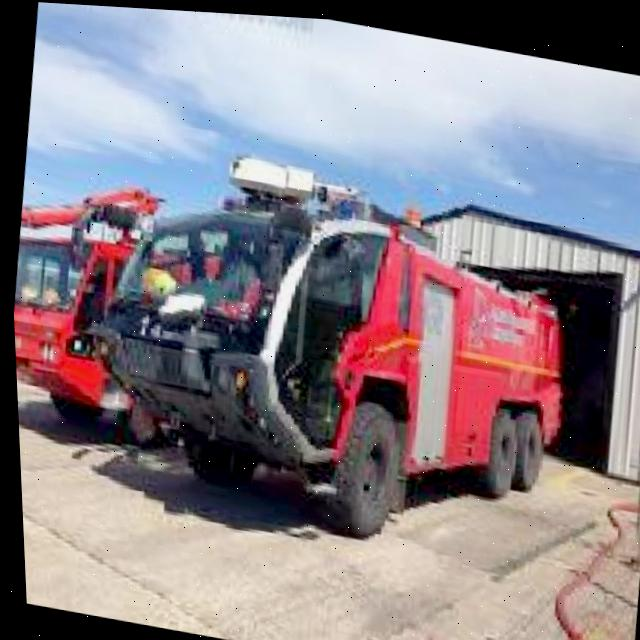emergency: (60, 161, 586, 570), (6, 162, 320, 466)
